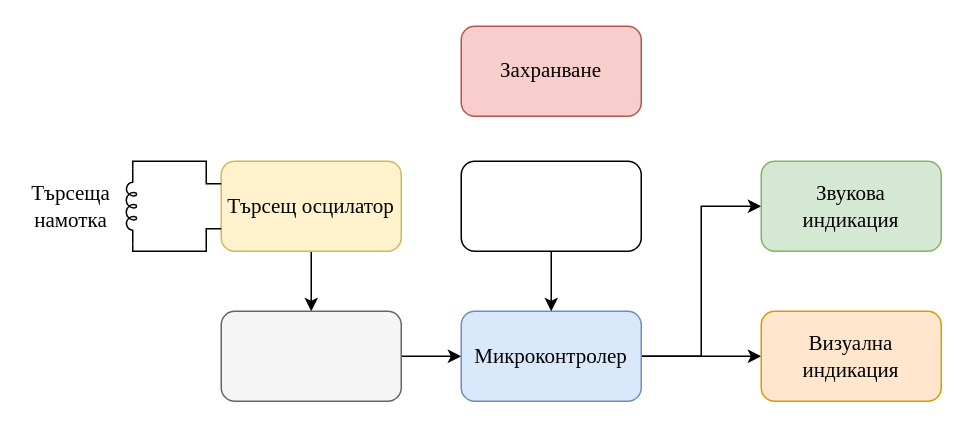
Some shapes in this 968 by 428 pixel diagram are drawn without their labels. Here are the shapes that lost their labels. From the top down, the centre of each, then its label:
the point at 550,205: Управление
the point at 310,355: Буфер
